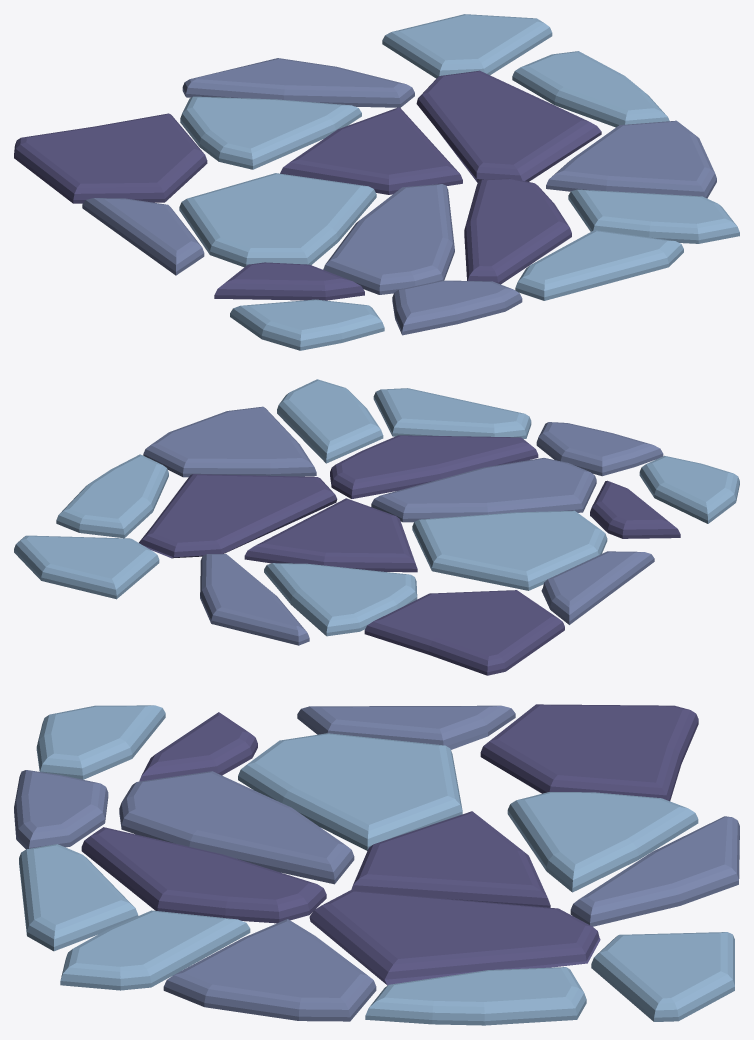
Rendered from Floor_Stones_03.fbx.
3 renders of one model, top to bottom at view 1: azimuth 30°, elevation 25°; view 2: azimuth 150°, elevation 25°; view 3: azimuth 270°, elevation 25°, orthographic. The views are drawn at different scales.
Parts seen in each view (by area): view 1: Floor_Stone_4; view 2: Floor_Stone_4; view 3: Floor_Stone_4.
Part boxes in pixels (bbox=[...]): Floor_Stone_4: bbox=[14, 14, 739, 350]; Floor_Stone_4: bbox=[14, 379, 739, 675]; Floor_Stone_4: bbox=[14, 704, 739, 1025].
Size of the model in its own units: 387 by 10.2 by 385.
